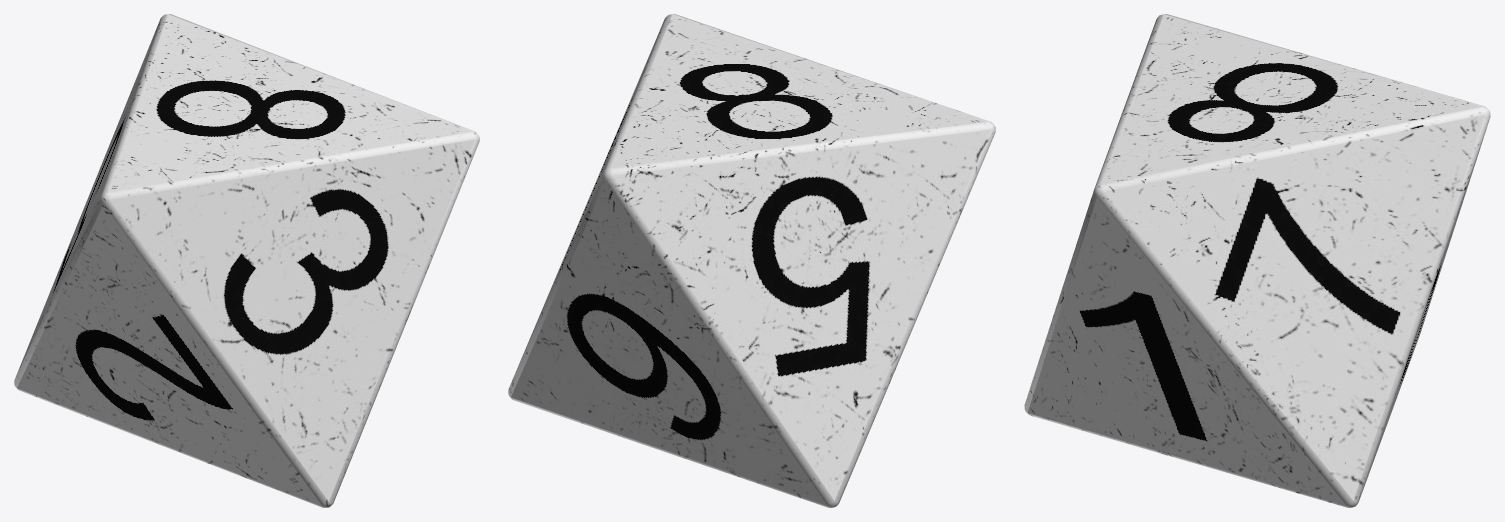
The picture shows the model from 3 angles, left to right: view 1: azimuth 30°, elevation 25°; view 2: azimuth 150°, elevation 25°; view 3: azimuth 270°, elevation 25°; orthographic projection. The views are drawn at different scales.
Parts seen in each view (by area): view 1: pPyramid3.001; view 2: pPyramid3.001; view 3: pPyramid3.001.
Boxes of the visible parts, x1=… form: pPyramid3.001: x1=14, y1=14, x2=479, y2=507; pPyramid3.001: x1=508, y1=14, x2=995, y2=507; pPyramid3.001: x1=1024, y1=14, x2=1490, y2=507.
Bounding box in the file's own units: 2.39 × 1.94 × 2.42.
